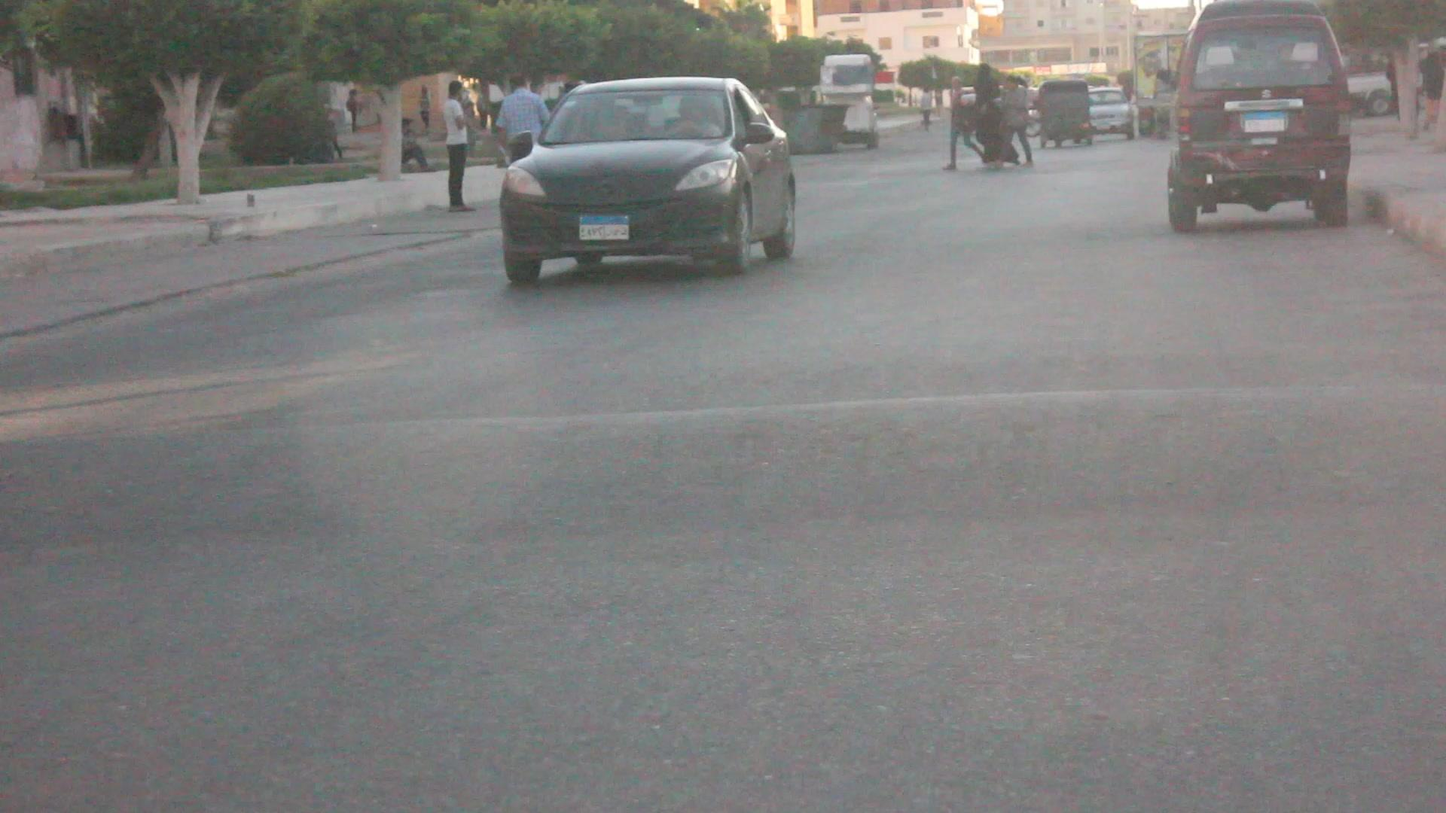Bump: (11, 399, 1446, 508)
